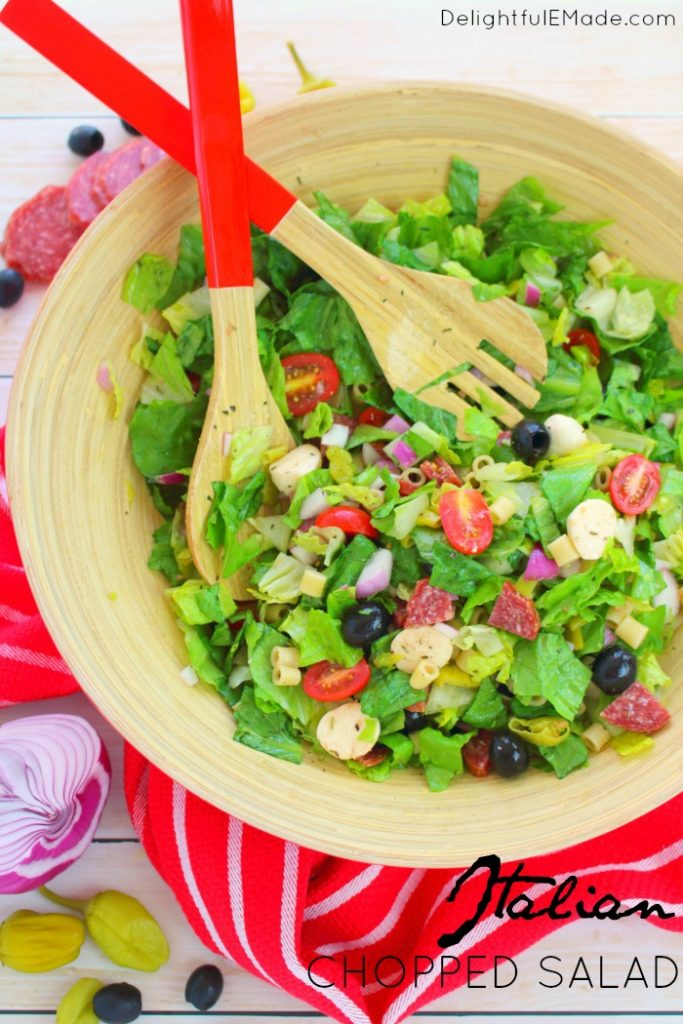chopped lettuce: (166, 268, 669, 761)
